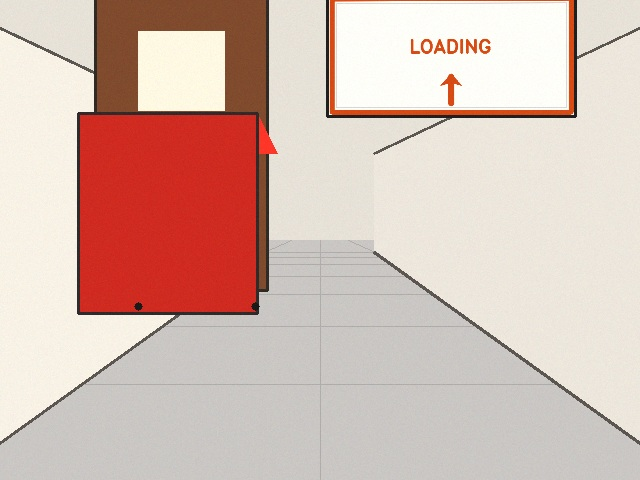cart: (78, 113, 277, 313)
directional_sign: (327, 0, 575, 116)
door: (95, 0, 267, 290)
